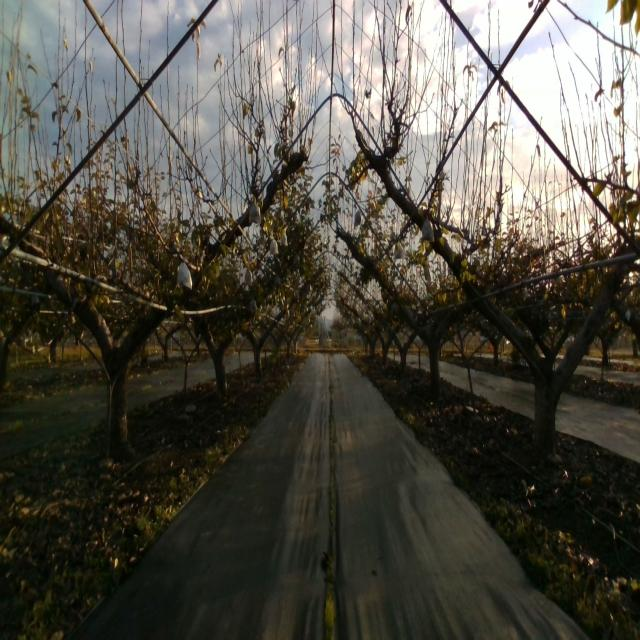pearbags: (177, 256, 193, 291), (420, 215, 434, 243), (248, 197, 262, 224)
